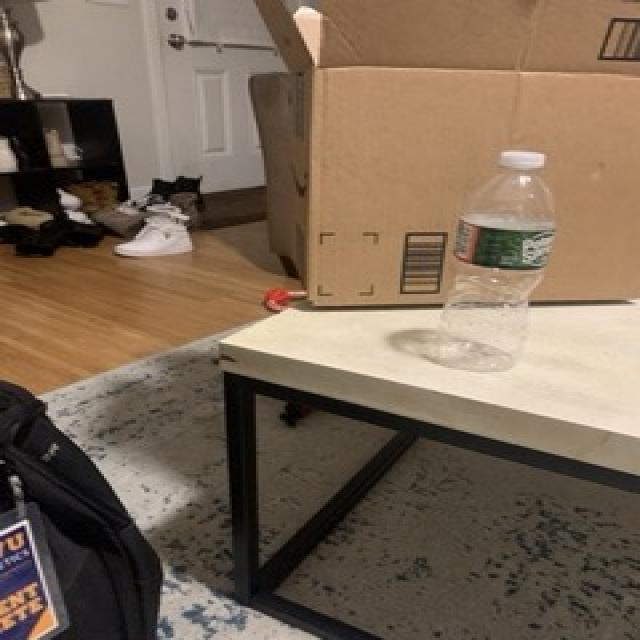water_bottle: (434, 148, 562, 370)
